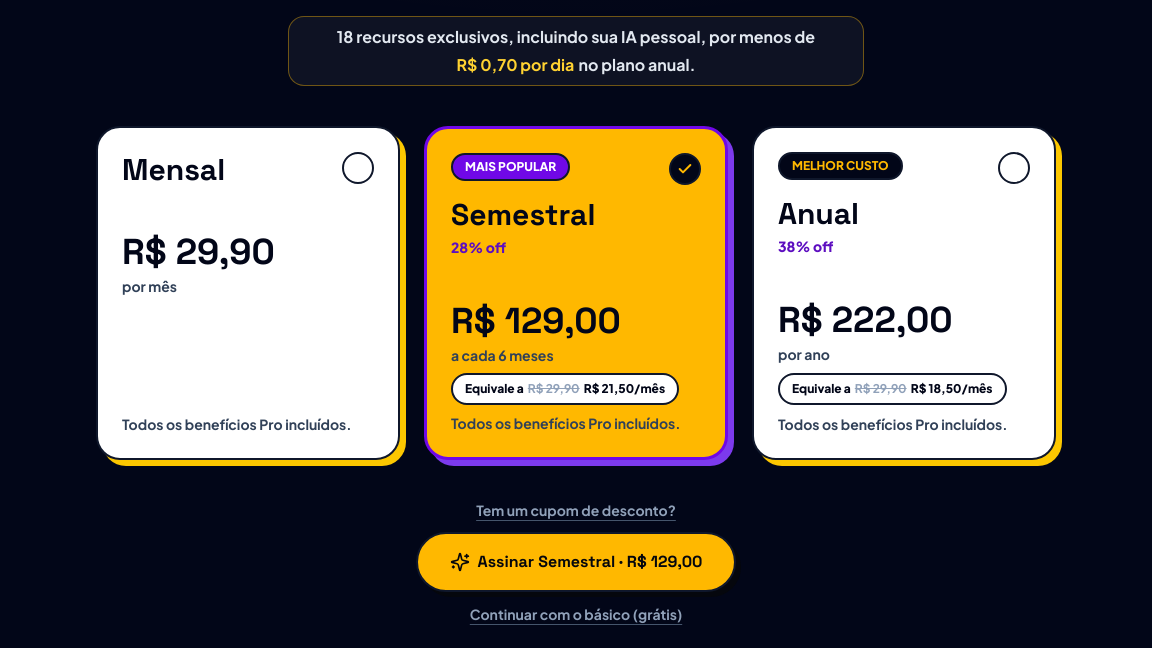
Test: campo de cupom do checkout: codigo de creator (lote 11b) › cupom de marketing valido segue o caminho de hoje, sem consultar afiliados
This screenshot has width=1152, height=648.
(page scrolled)
Click the button "Tem um cupom de desconto?". click: (576, 510)
box: [476, 500, 676, 520]
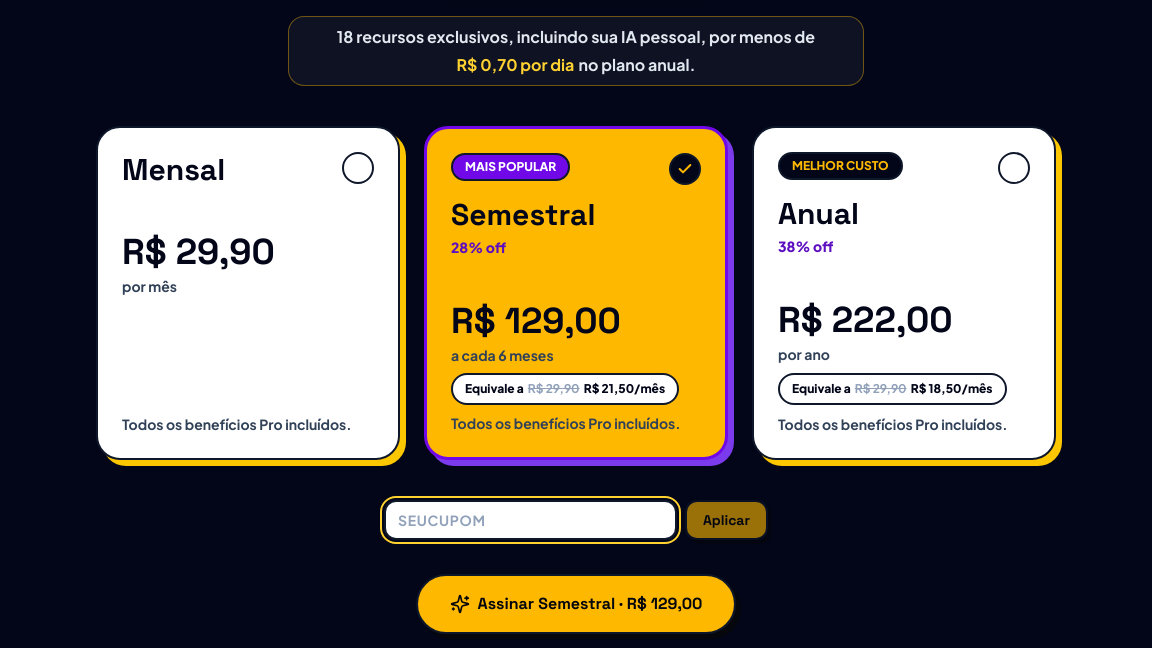
Type "PROMO10" into the field named "Código do cupom". click: (530, 520)
box: [384, 500, 677, 540]
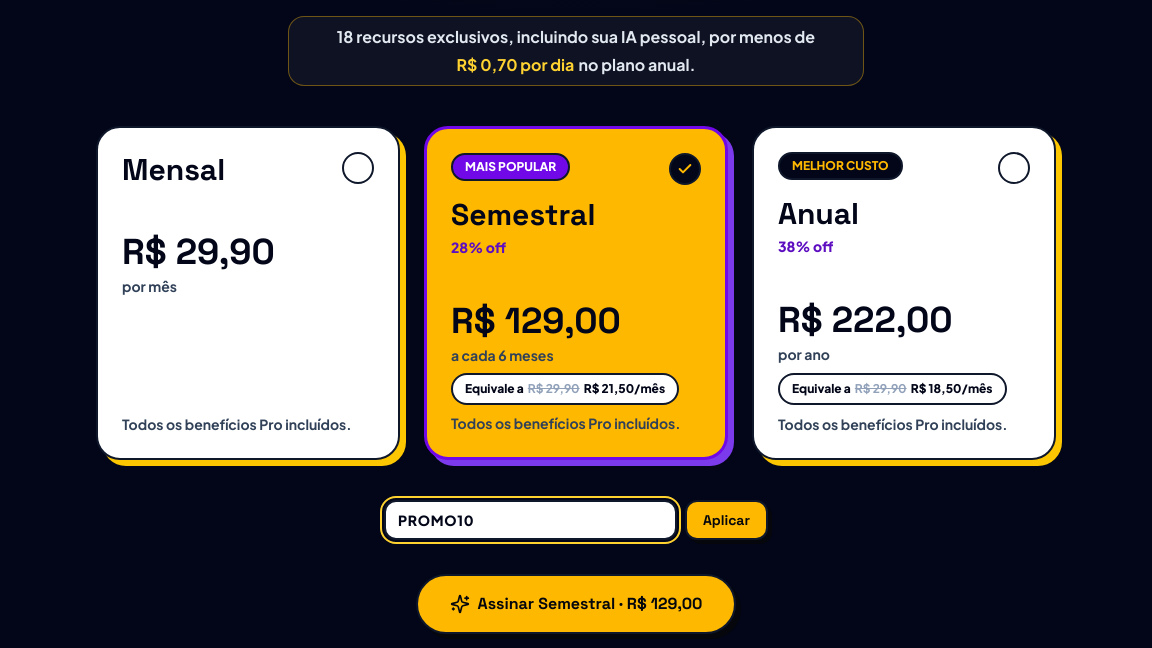
Click the button "Aplicar". click: (726, 520)
box: [685, 500, 768, 540]
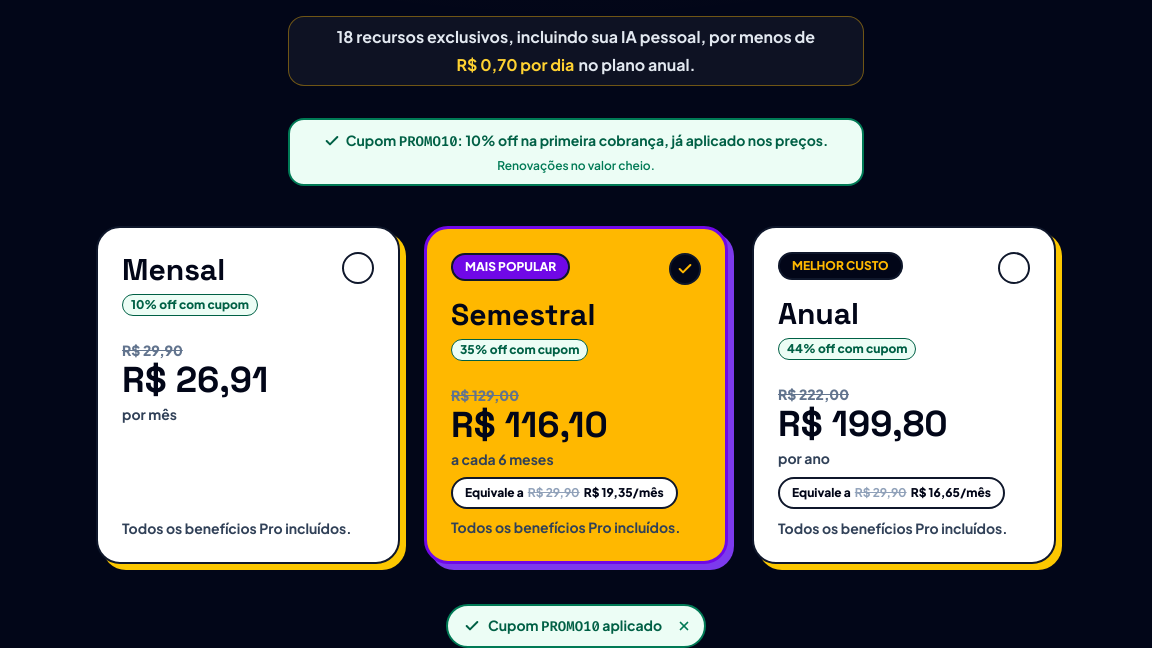
expect the message shows "PROMO10": met, box [541, 617, 600, 636]
expect the text "PROMO10" in the row of "% off na primeira cobrança" is shown: met, box [399, 132, 458, 151]
